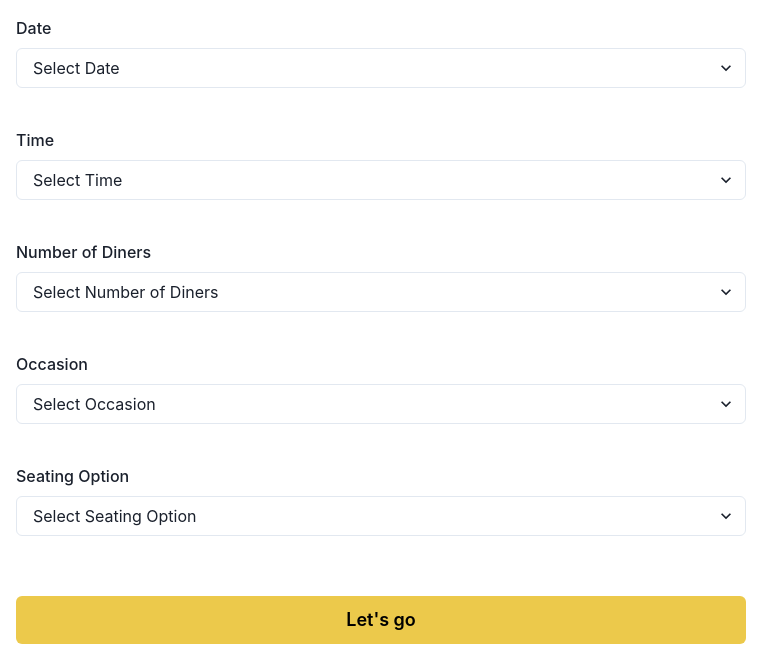
Test case: Form submission displays success alert
Note: Fill in the form fields
Select "2023-08-07" in the dropdown labelled "Date". click: x=381, y=68
box: x1=16 y1=48 x2=746 y2=88
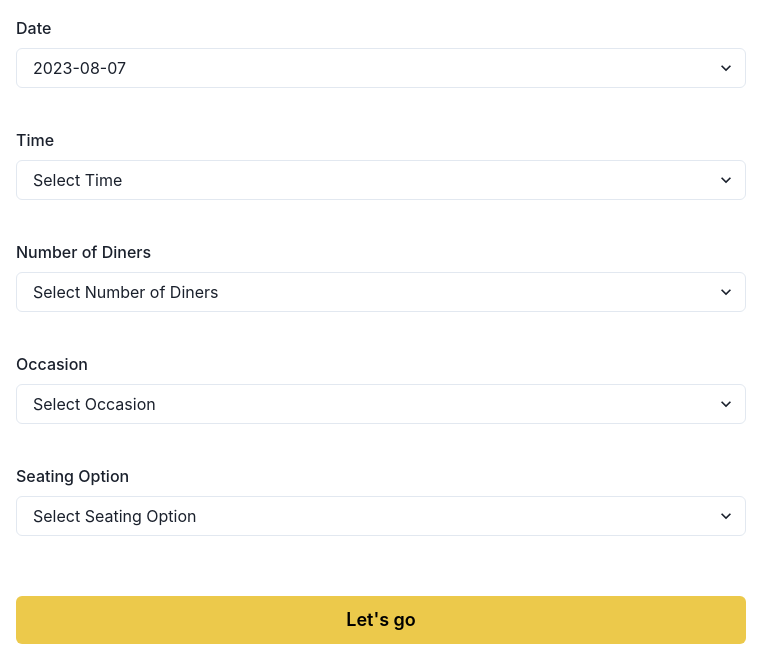
Select "18:00" in the dropdown labelled "Time". click: x=381, y=180
box: x1=16 y1=160 x2=746 y2=200
Select "2" in the dropdown labelled "Number of Diners". click: x=381, y=292
box: x1=16 y1=272 x2=746 y2=312
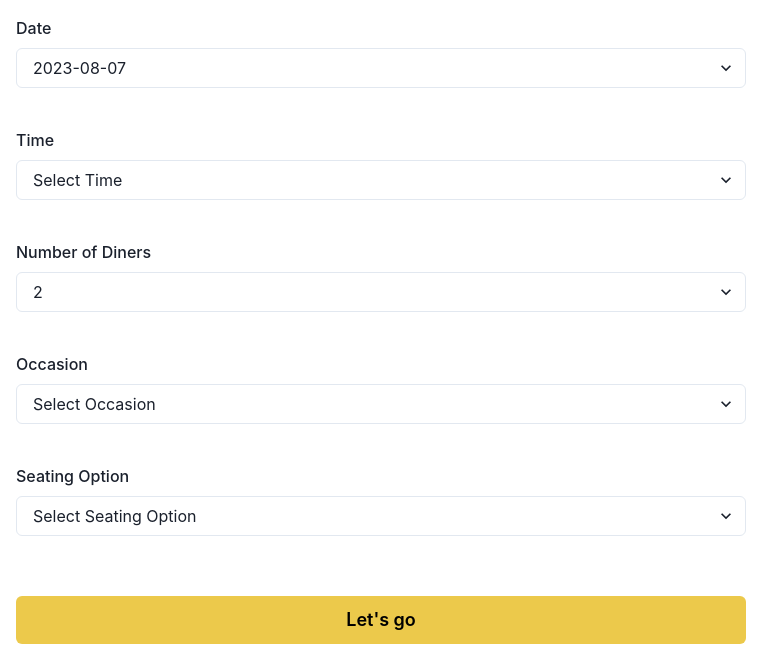
Select "Birthday" in the dropdown labelled "Occasion". click: x=381, y=404
box: x1=16 y1=384 x2=746 y2=424
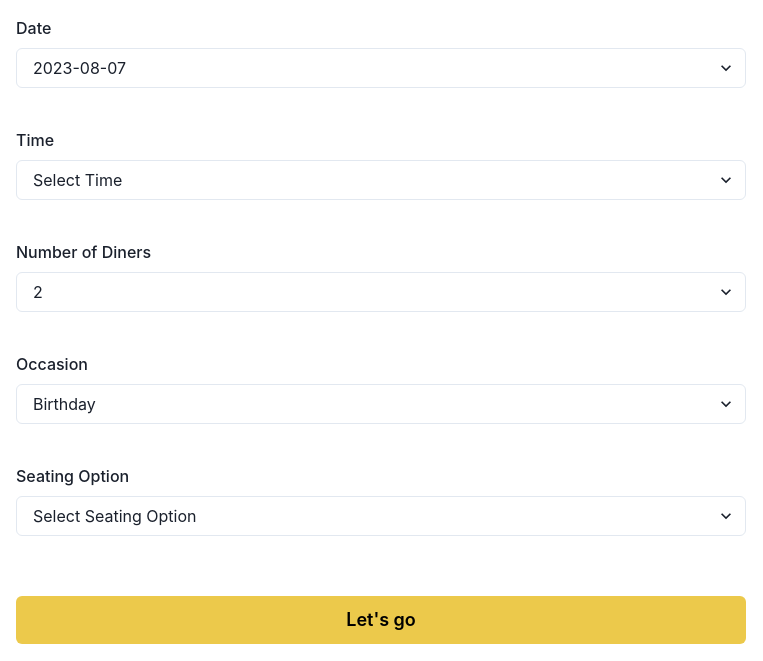
Select "Outside" in the dropdown labelled "Seating Option". click: x=381, y=516
box: x1=16 y1=496 x2=746 y2=536
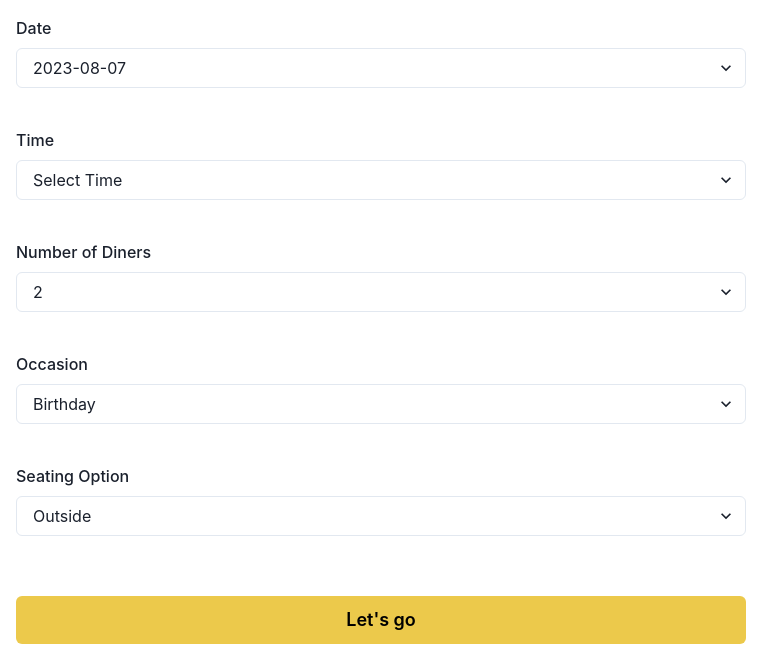
Note: Click the submission button
Click the button "Let's go". click: x=381, y=620
box: x1=16 y1=596 x2=746 y2=644
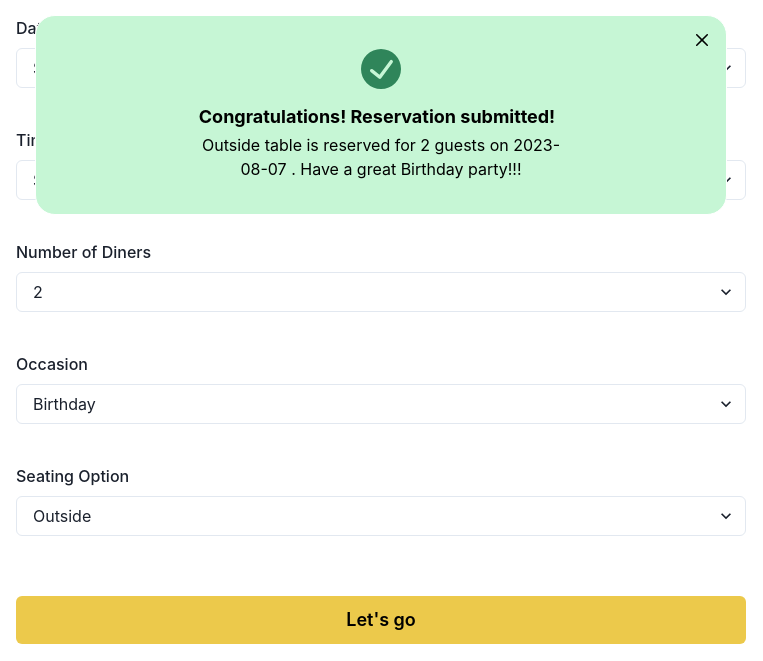
expect the text "Congratulations! Reservation submitted!" is shown: met, box x1=199 y1=105 x2=555 y2=129
